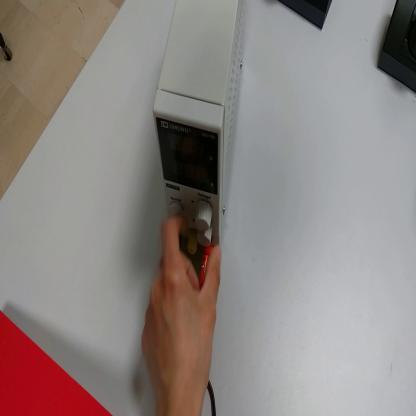hand: (140, 213, 222, 404)
power supply: (154, 3, 246, 256)
register: (1, 308, 114, 416)
socket: (378, 2, 416, 95), (279, 2, 333, 31)
